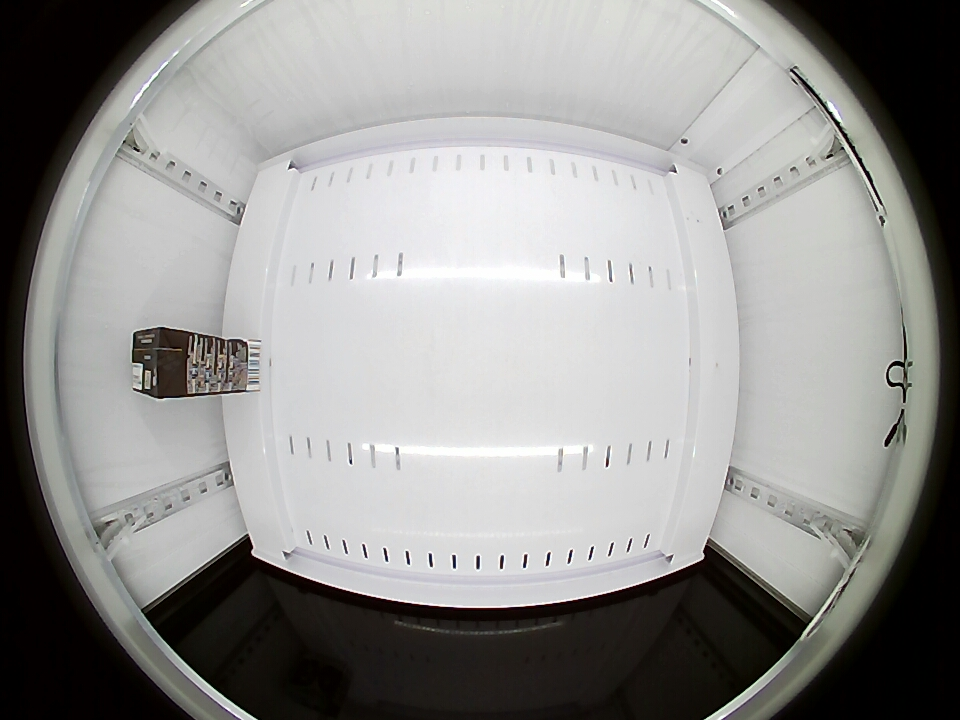weitanai2: (131, 327, 194, 399)
